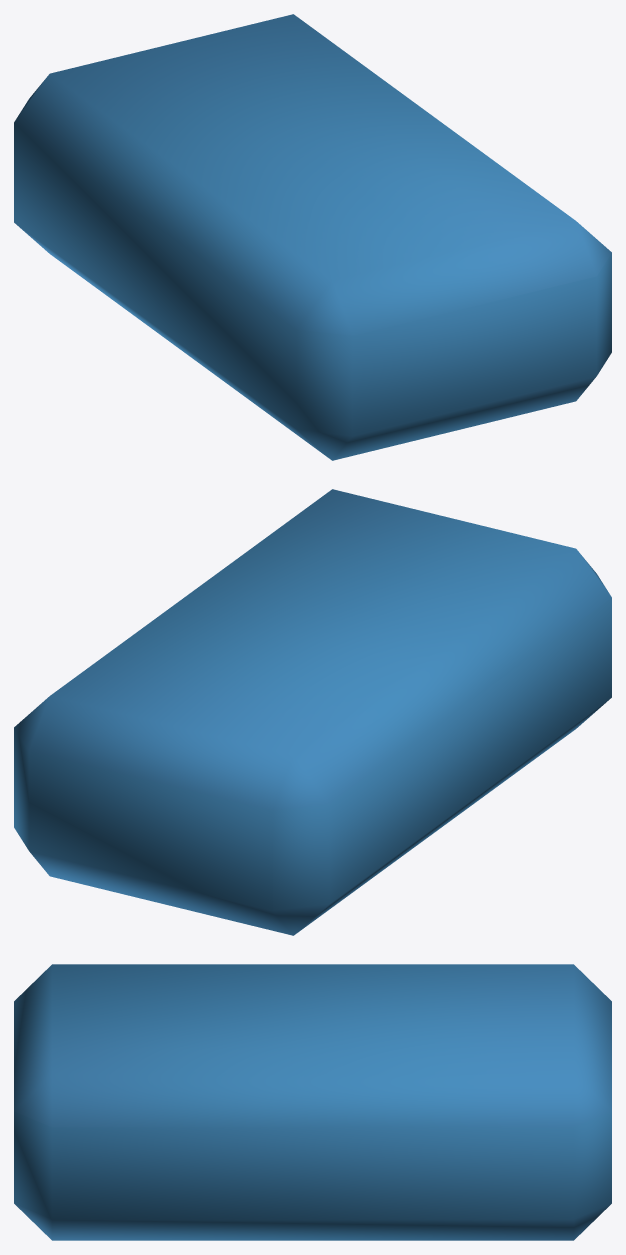
The model's file is Soap_02.glb.
3 renders of one model, top to bottom at view 1: azimuth 30°, elevation 25°; view 2: azimuth 150°, elevation 25°; view 3: azimuth 270°, elevation 25°, orthographic. The views are drawn at different scales.
Parts seen in each view (by area): view 1: Soap_02; view 2: Soap_02; view 3: Soap_02.
Boxes of the visible parts, x1,y1,x2,y2 form: Soap_02: (14, 14, 611, 460); Soap_02: (14, 489, 611, 935); Soap_02: (14, 964, 611, 1240).
Bounding box in the file's own units: 0.0595 × 0.0325 × 0.1058.
1 material, 1 textured.
